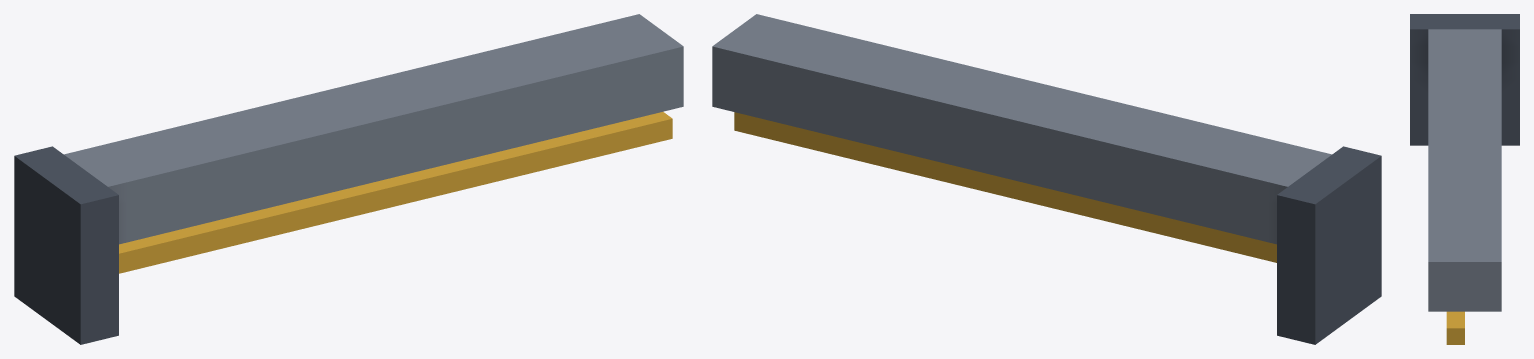
File: pad_arm_e2.glb
3 views of the same model, side by side, from view 1: azimuth 30°, elevation 25°; view 2: azimuth 150°, elevation 25°; view 3: azimuth 270°, elevation 25° (orthographic). The views are drawn at different scales.
Parts seen in each view (by area): view 1: Base; view 2: Base; view 3: Base.
Part boxes in pixels (<box>): Base: <box>14,14,683,344</box>; Base: <box>712,14,1381,344</box>; Base: <box>1410,14,1519,344</box>.
Bounding box in the file's own units: 3.2 × 0.7 × 0.6.
